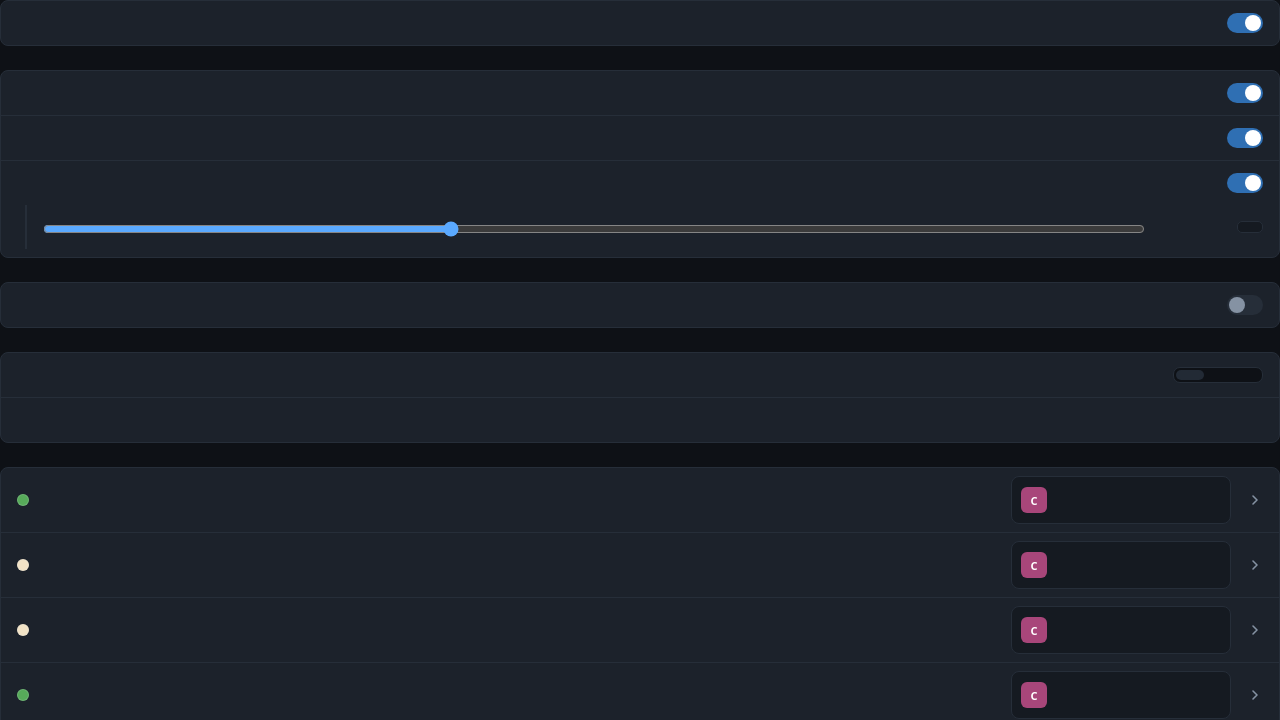
AttentionSettings colors and pulse › shows the pulse duration only while the state pulses
Click the 1st button "C": (1121, 500) [1, 468, 1279, 532]
(page scrolled)
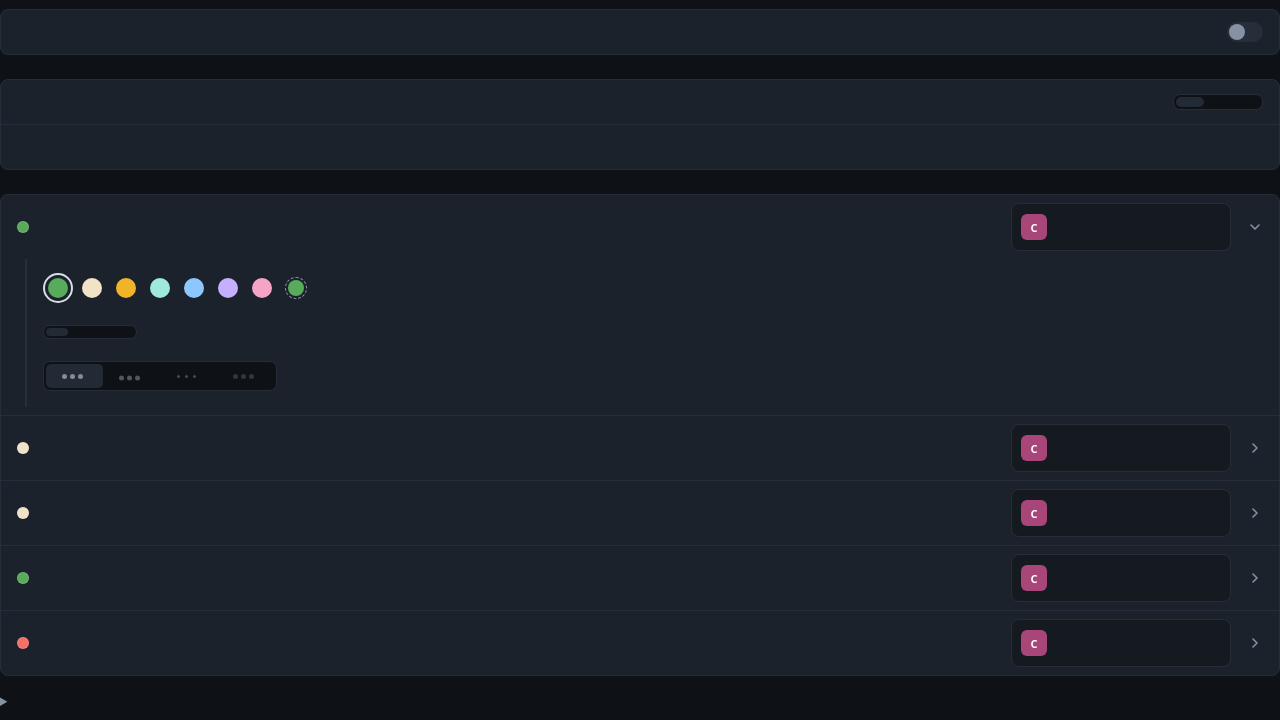
Click the 2nd button "C": (1121, 448) [1, 416, 1279, 480]
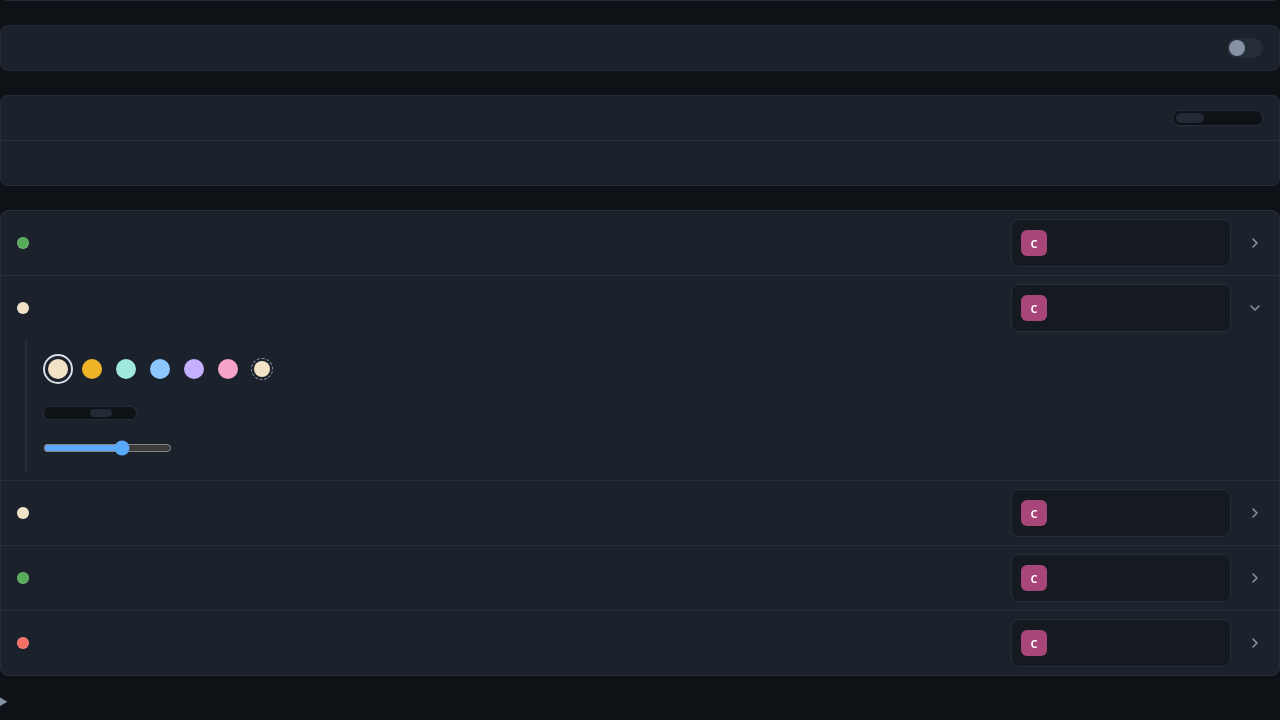
Check: the slider with id "look-done-seconds" is shown, box [43, 440, 172, 456]
